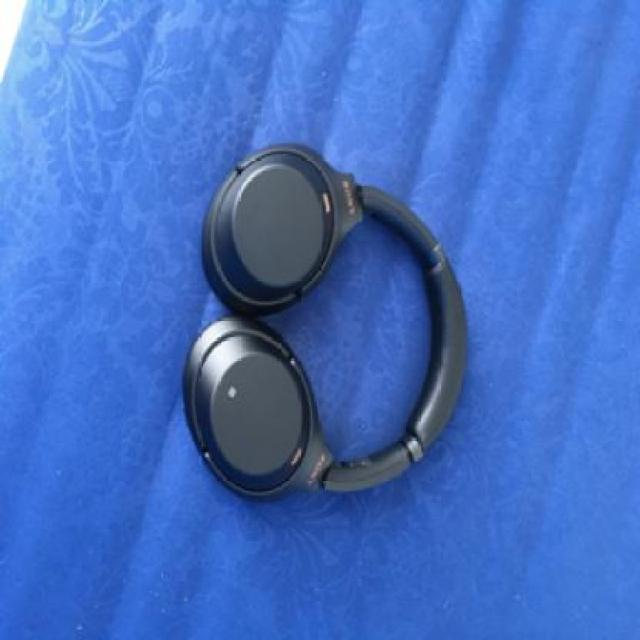earphone: (172, 105, 492, 528)
